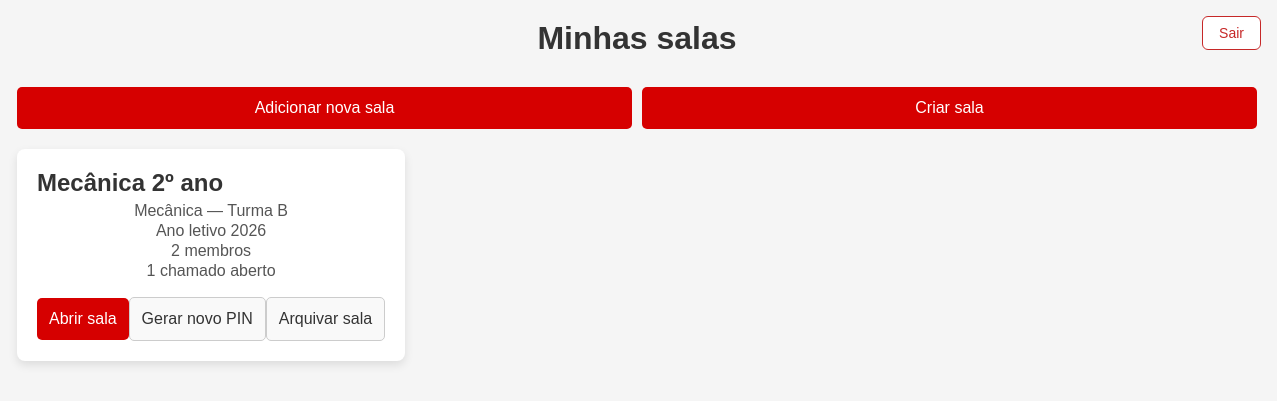
it: MinhasSalas — o professor dono (AC-SALA-08) › arquiva a sala e ela passa a aparecer como arquivada (AC-SALA-10)
The image size is (1277, 401).
Expected: the heading "Minhas salas" is shown, left=537, top=20, right=737, bottom=56
Click the button "Arquivar sala". click: (325, 319)
box: left=266, top=297, right=385, bottom=341
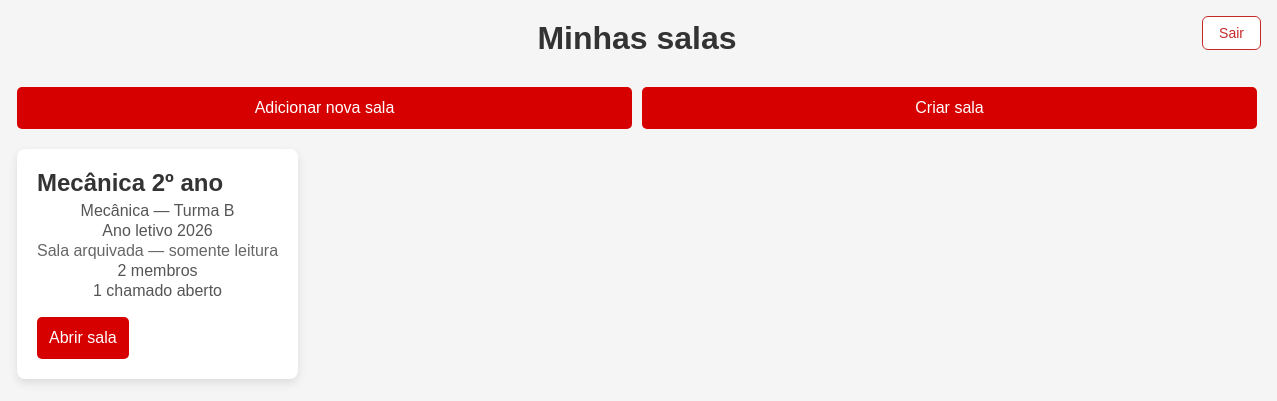
Expected: the text "Sala arquivada — somente leitura" is shown, left=37, top=242, right=278, bottom=260
